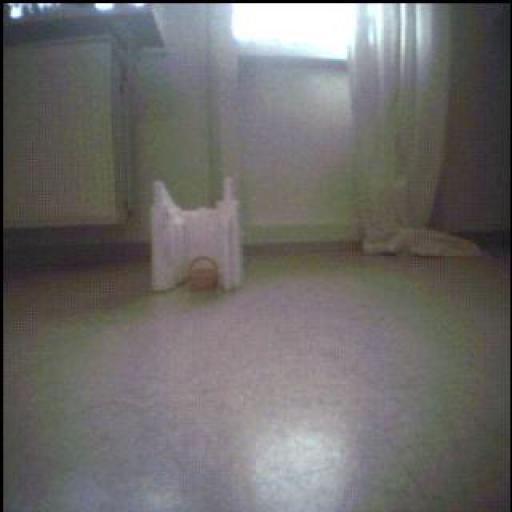Basket: (188, 257, 220, 291)
